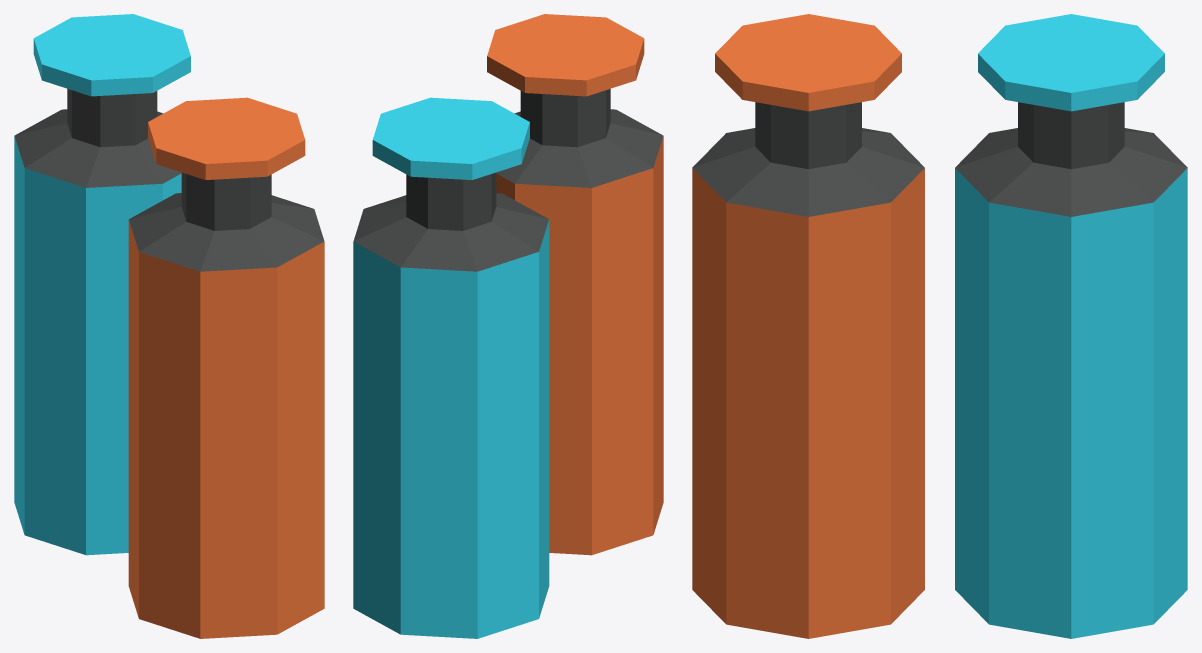
File: Ballons.fbx
The picture shows the model from 3 angles, left to right: view 1: azimuth 30°, elevation 25°; view 2: azimuth 150°, elevation 25°; view 3: azimuth 270°, elevation 25°; orthographic projection. The views are drawn at different scales.
Parts seen in each view (by area): view 1: Цилиндр, Цилиндр.001; view 2: Цилиндр.001, Цилиндр; view 3: Цилиндр, Цилиндр.001.
Boxes of the visible parts, x1,y1,x2,y2 form: Цилиндр: (128, 97, 324, 638); Цилиндр.001: (14, 14, 190, 555); Цилиндр.001: (353, 97, 549, 638); Цилиндр: (487, 14, 663, 555); Цилиндр: (692, 14, 924, 638); Цилиндр.001: (955, 14, 1187, 638).
Size of the model in its own units: 200 by 508 by 426.
2 materials, 2 textured.
